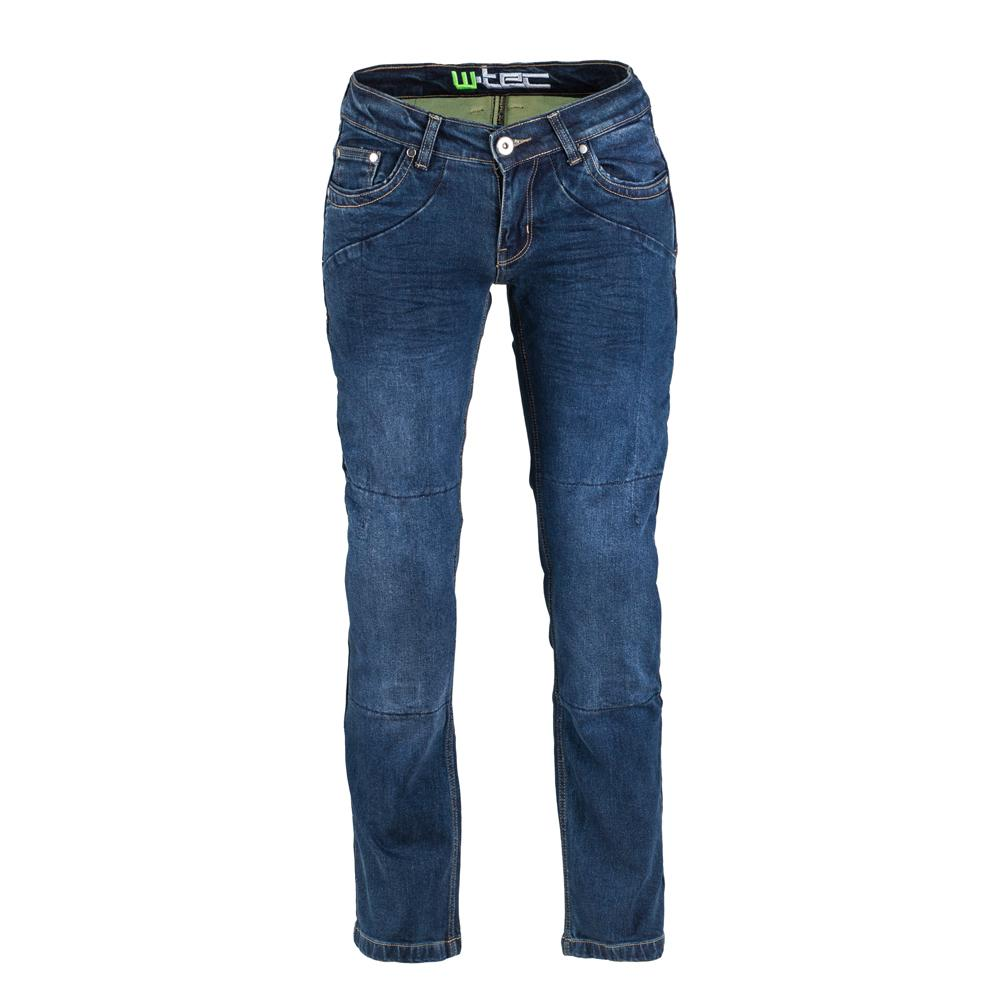Jeans: (312, 50, 685, 974)
